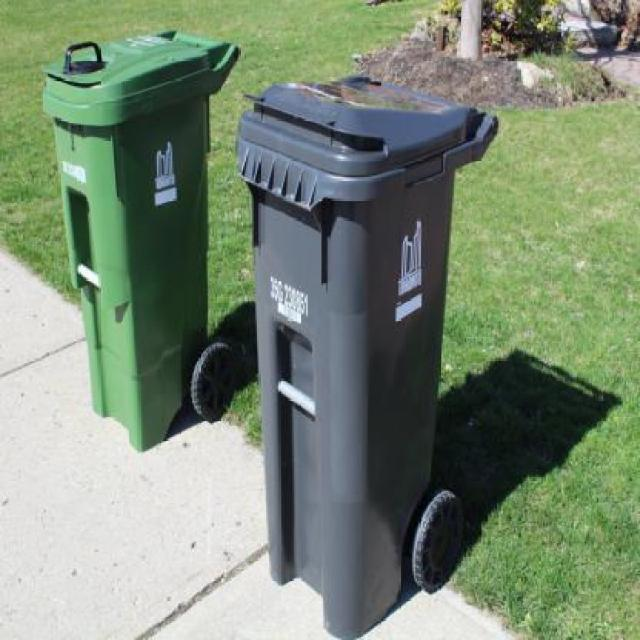garbage container: (234, 64, 512, 639), (32, 23, 250, 465)
